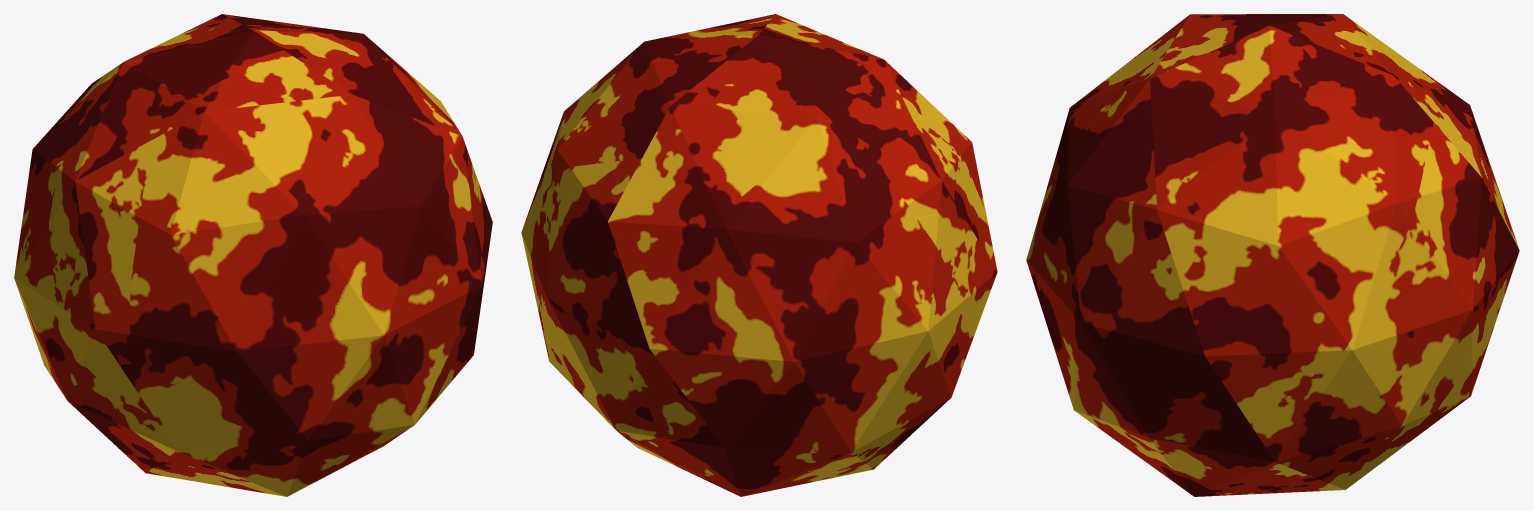
Rendered from fireball.fbx.
The picture shows the model from 3 angles, left to right: view 1: azimuth 30°, elevation 25°; view 2: azimuth 150°, elevation 25°; view 3: azimuth 270°, elevation 25°; orthographic projection. The views are drawn at different scales.
Parts seen in each view (by area): view 1: Icosphere; view 2: Icosphere; view 3: Icosphere.
Part boxes in pixels (x1,y1,x2,y2): Icosphere: (14, 14, 492, 496); Icosphere: (521, 14, 997, 496); Icosphere: (1026, 14, 1519, 496).
Bounding box in the file's own units: 1.14 × 1.17 × 1.14.
1 material, 1 textured.
